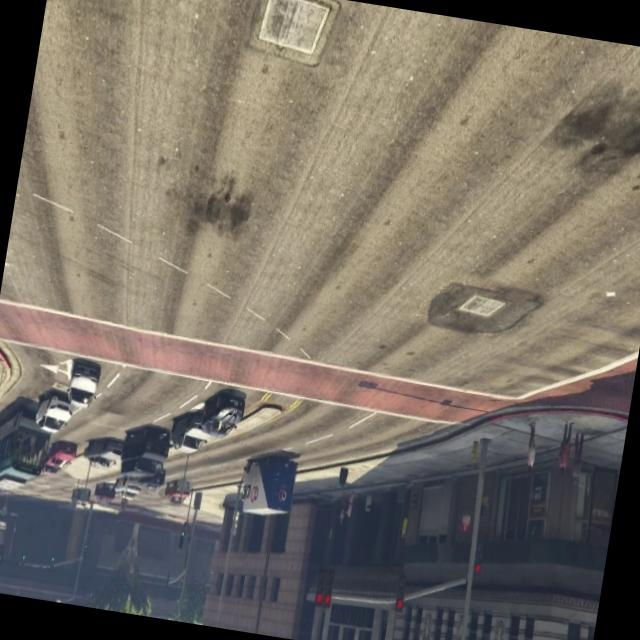Red-Signal: (304, 550, 348, 620), (461, 526, 498, 594), (388, 566, 416, 622)
